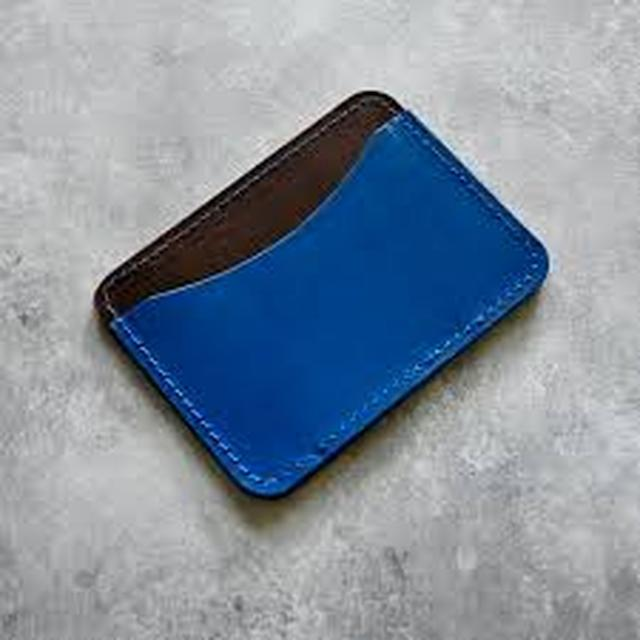wallet: (59, 90, 576, 543)
